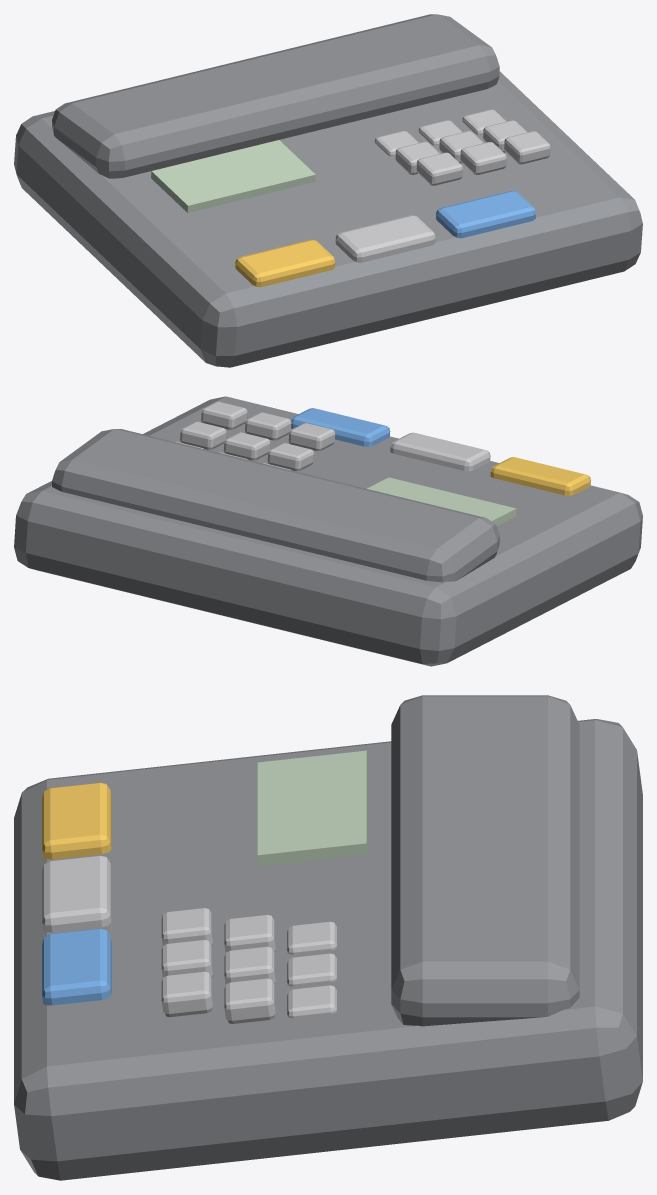
File: desk_phone.fbx
3 renders of one model, top to bottom at view 1: azimuth 30°, elevation 25°; view 2: azimuth 150°, elevation 25°; view 3: azimuth 270°, elevation 25°, orthographic. The views are drawn at different scales.
Visible parts, largest first — view 1: desk_phone; view 2: desk_phone; view 3: desk_phone.
Boxes of the visible parts, x1=… form: desk_phone: x1=14, y1=14, x2=642, y2=367; desk_phone: x1=14, y1=396, x2=642, y2=666; desk_phone: x1=14, y1=695, x2=642, y2=1180.
Size of the model in its own units: 0.24 by 0.0729 by 0.2005.
